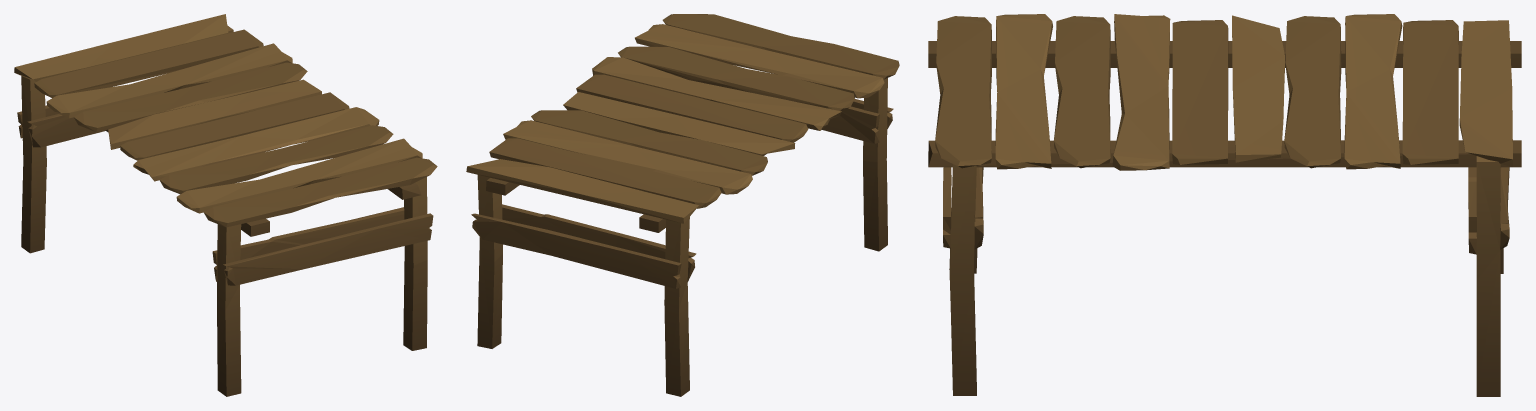
The model's file is ModularWood_01.fbx.
The picture shows the model from 3 angles, left to right: view 1: azimuth 30°, elevation 25°; view 2: azimuth 150°, elevation 25°; view 3: azimuth 270°, elevation 25°; orthographic projection. The views are drawn at different scales.
Parts seen in each view (by area): view 1: ModularWood_01; view 2: ModularWood_01; view 3: ModularWood_01.
Part boxes in pixels (bbox=[...]): ModularWood_01: bbox=[14, 14, 437, 396]; ModularWood_01: bbox=[466, 14, 899, 396]; ModularWood_01: bbox=[928, 14, 1521, 396].
Bounding box in the file's own units: 1.8 × 1.32 × 2.94.
